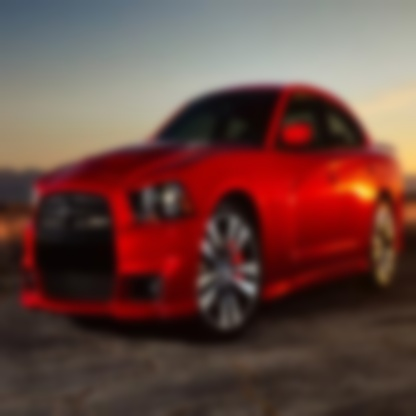Vehicle: (21, 79, 406, 332)
